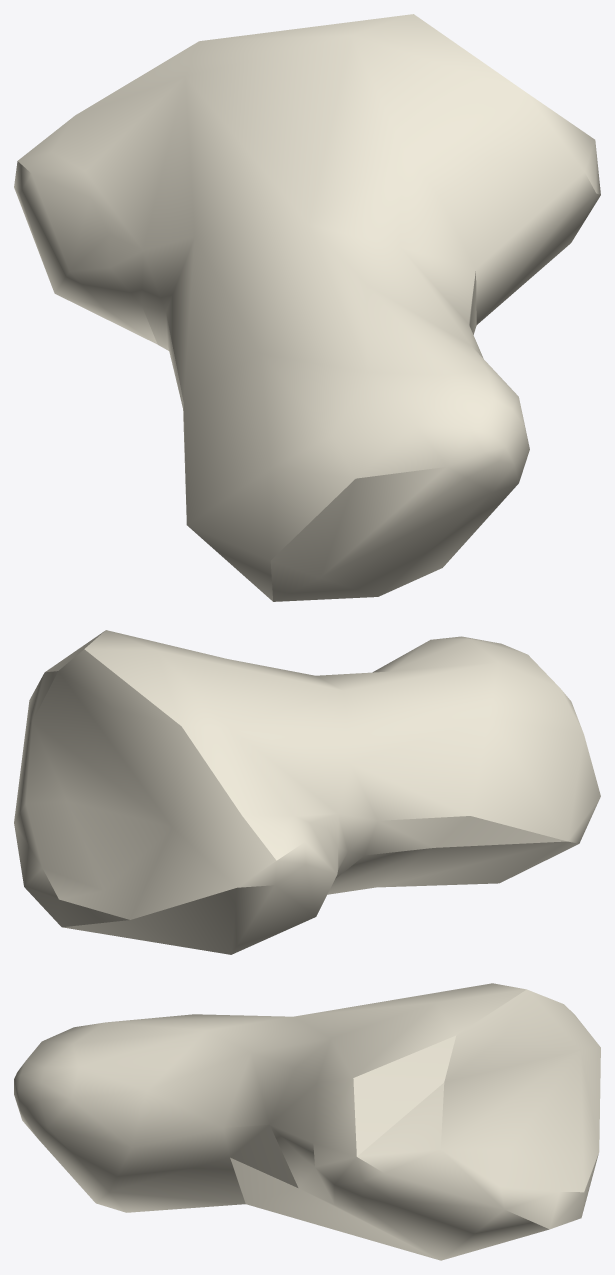
The model's file is fma32658_fj3195.glb.
3 renders of one model, top to bottom at view 1: azimuth 30°, elevation 25°; view 2: azimuth 150°, elevation 25°; view 3: azimuth 270°, elevation 25°, orthographic. The views are drawn at different scales.
Parts seen in each view (by area): view 1: FMA32658_FJ3195; view 2: FMA32658_FJ3195; view 3: FMA32658_FJ3195.
Boxes of the visible parts, bbox=[...] form: FMA32658_FJ3195: bbox=[14, 14, 600, 601]; FMA32658_FJ3195: bbox=[14, 630, 600, 954]; FMA32658_FJ3195: bbox=[14, 983, 600, 1260].
Bounding box in the file's own units: 0.00816 × 0.00521 × 0.0104.
